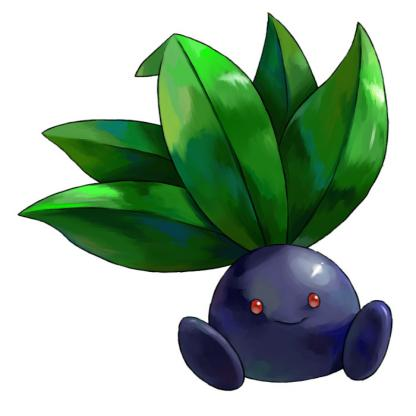Oddish: (44, 11, 416, 383)
